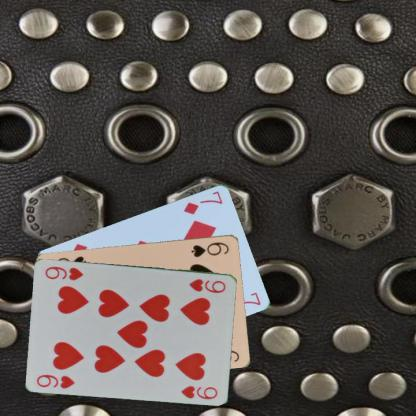6s: (189, 239, 231, 258)
7d: (181, 188, 224, 215)
9h: (34, 372, 76, 390), (187, 276, 227, 294)
